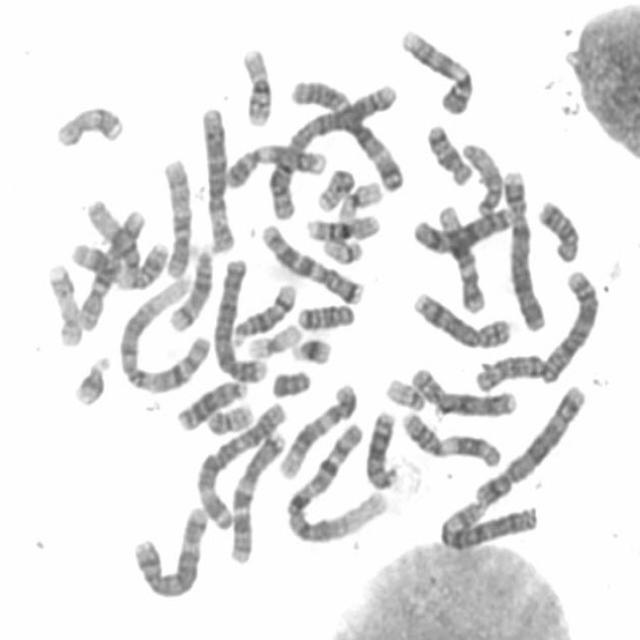A1: (278, 414, 391, 545), (112, 266, 214, 395)
A2: (263, 73, 400, 222), (470, 263, 602, 393)
A3: (284, 71, 404, 194), (190, 394, 288, 531)
B4: (497, 162, 549, 334), (208, 250, 269, 384)
B5: (468, 377, 588, 508), (126, 499, 210, 601)
C10: (73, 204, 147, 332), (156, 149, 195, 281)
C11: (394, 403, 504, 468), (66, 232, 170, 291)
C12: (274, 374, 360, 481), (433, 196, 488, 314)
C6: (432, 491, 541, 552), (195, 98, 237, 254)
C7: (254, 216, 366, 306), (223, 420, 289, 565)
C8: (407, 283, 515, 350), (406, 359, 520, 418)
C9: (394, 21, 476, 115), (218, 135, 329, 191)
D13: (171, 372, 249, 432), (359, 402, 402, 491)
D14: (227, 276, 299, 347), (164, 239, 215, 333)
D15: (86, 196, 142, 290), (456, 134, 506, 218)
E16: (234, 38, 276, 128), (299, 205, 382, 242)
E17: (49, 96, 126, 149), (41, 255, 84, 348)
E18: (420, 116, 475, 187), (292, 296, 356, 332)
F19: (241, 317, 303, 359), (333, 174, 385, 222)
F20: (312, 160, 356, 212), (201, 395, 255, 437)
G21: (67, 347, 112, 408), (286, 329, 333, 366)
G22: (380, 370, 428, 411), (316, 231, 365, 266)
X: (407, 200, 516, 255)
Y: (265, 362, 313, 398)
